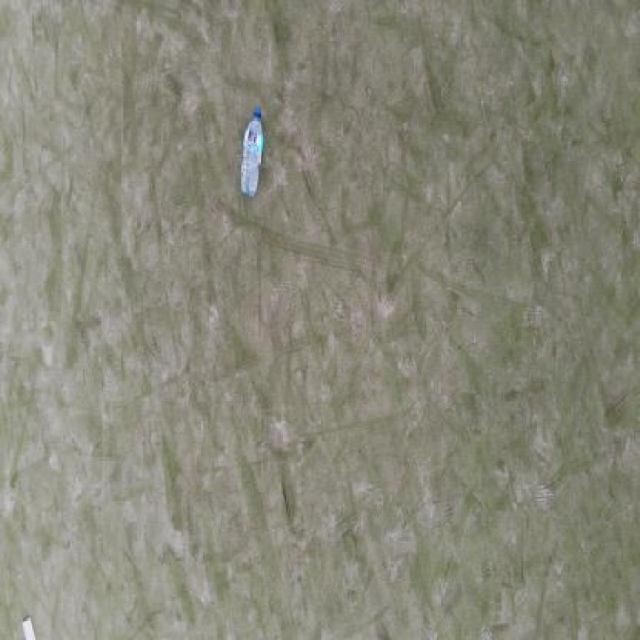Garbage: (239, 109, 264, 198), (22, 617, 36, 639)
